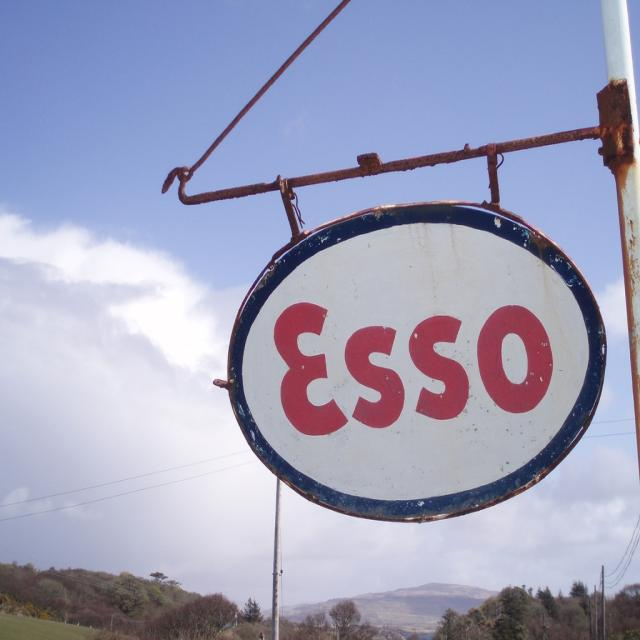esso: (222, 195, 617, 539)
